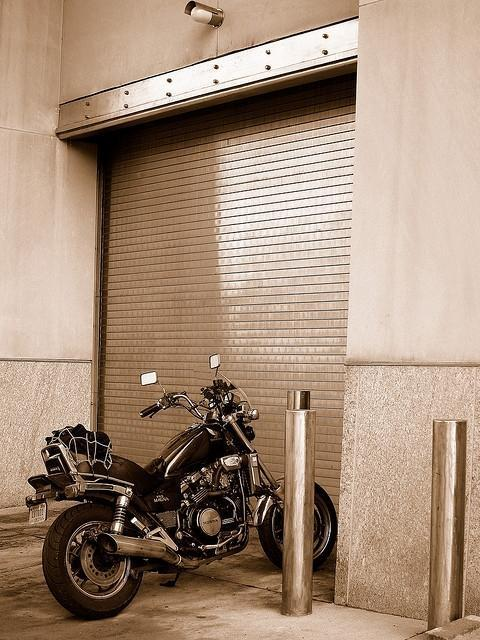motorcycle: (26, 354, 336, 618)
